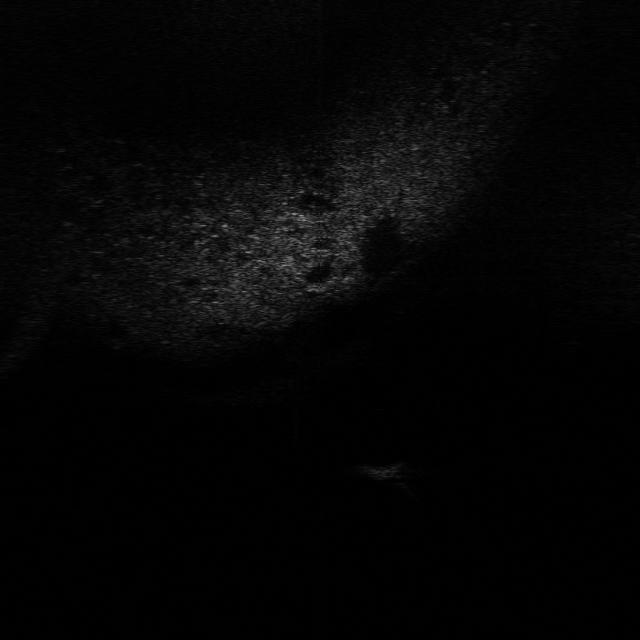cube: (350, 459, 414, 483)
